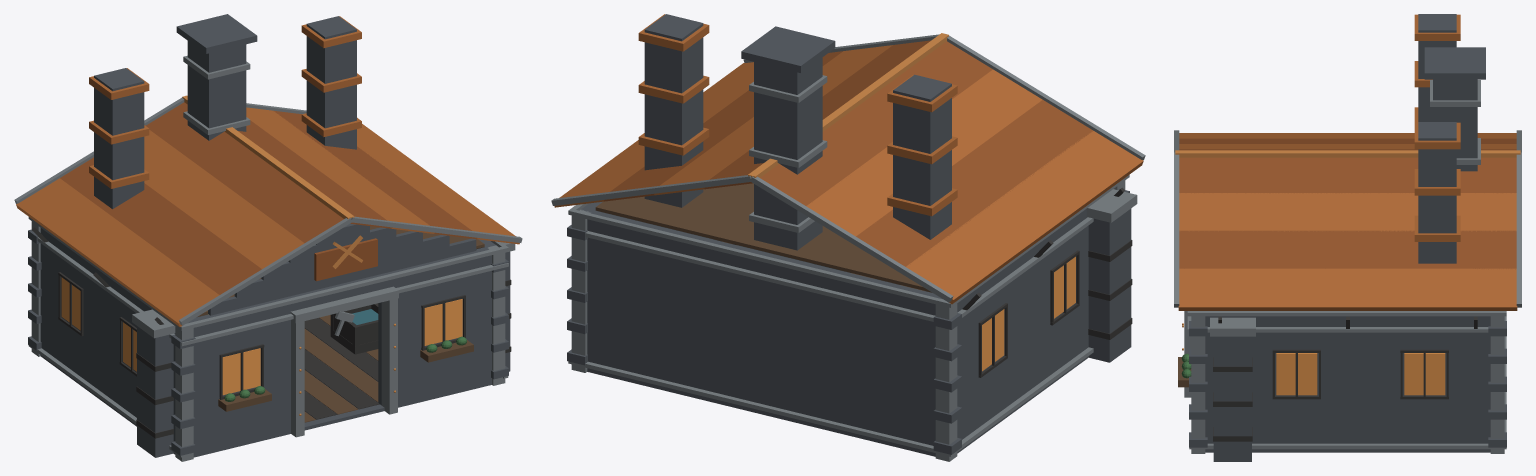
Rendered from Forge.glb.
The picture shows the model from 3 angles, left to right: view 1: azimuth 30°, elevation 25°; view 2: azimuth 150°, elevation 25°; view 3: azimuth 270°, elevation 25°; orthographic projection. The views are drawn at different scales.
Visible parts, largest first — view 1: Forge_165_ProfileRoof, Forge_003_FrontWing, Forge_040_FrontWing, Forge_002_Side, Forge_156_ProfileRoof, Forge_159_ProfileRoof, Forge_162_ProfileRoof, Forge_186_ExhaustStack, Forge_199_ExhaustStack, Forge_220_ForgeChimney, Forge_171_ProfileRoof, Forge_181_FoundryButtress (+39 smaller); view 2: Forge_001_Rear, Forge_002_Side, Forge_165_ProfileRoof, Forge_162_ProfileRoof, Forge_095_Ceiling, Forge_159_ProfileRoof, Forge_156_ProfileRoof, Forge_220_ForgeChimney, Forge_199_ExhaustStack, Forge_186_ExhaustStack, Forge_181_FoundryButtress, Forge_171_ProfileRoof (+24 smaller); view 3: Forge_039_Side, Forge_177_ProfileRoof, Forge_174_ProfileRoof, Forge_171_ProfileRoof, Forge_168_ProfileRoof, Forge_199_ExhaustStack, Forge_194_FoundryButtress, Forge_220_ForgeChimney, Forge_180_Ridge, Forge_224_ChimneyCap, Forge_088_SideCourse, Forge_080_SideCourse (+17 smaller).
Part boxes in pixels (left/top/right/bottom): Forge_165_ProfileRoof: left=16, top=178, right=219, bottom=326; Forge_003_FrontWing: left=186, top=295, right=299, bottom=457; Forge_040_FrontWing: left=378, top=244, right=495, bottom=407; Forge_002_Side: left=40, top=228, right=190, bottom=441; Forge_156_ProfileRoof: left=146, top=102, right=343, bottom=243; Forge_159_ProfileRoof: left=144, top=130, right=304, bottom=268; Forge_162_ProfileRoof: left=60, top=157, right=261, bottom=294; Forge_186_ExhaustStack: left=94, top=68, right=144, bottom=209; Forge_199_ExhaustStack: left=306, top=16, right=356, bottom=149; Forge_220_ForgeChimney: left=187, top=41, right=246, bottom=140; Forge_171_ProfileRoof: left=246, top=107, right=434, bottom=233; Forge_181_FoundryButtress: left=137, top=326, right=173, bottom=457; Forge_001_Rear: left=581, top=208, right=941, bottom=456; Forge_002_Side: left=940, top=188, right=1114, bottom=452; Forge_165_ProfileRoof: left=906, top=130, right=1143, bottom=304; Forge_162_ProfileRoof: left=856, top=100, right=1093, bottom=266; Forge_095_Ceiling: left=595, top=183, right=931, bottom=292; Forge_159_ProfileRoof: left=806, top=69, right=1042, bottom=236; Forge_156_ProfileRoof: left=760, top=41, right=992, bottom=205; Forge_220_ForgeChimney: left=754, top=57, right=822, bottom=250; Forge_199_ExhaustStack: left=644, top=14, right=703, bottom=207; Forge_186_ExhaustStack: left=893, top=74, right=951, bottom=239; Forge_181_FoundryButtress: left=1088, top=208, right=1131, bottom=362; Forge_171_ProfileRoof: left=654, top=45, right=892, bottom=195; Forge_039_Side: left=1205, top=316, right=1490, bottom=452; Forge_177_ProfileRoof: left=1178, top=268, right=1517, bottom=310; Forge_174_ProfileRoof: left=1179, top=230, right=1516, bottom=269; Forge_171_ProfileRoof: left=1179, top=193, right=1516, bottom=231; Forge_168_ProfileRoof: left=1179, top=157, right=1516, bottom=193; Forge_199_ExhaustStack: left=1418, top=122, right=1456, bottom=263; Forge_194_FoundryButtress: left=1213, top=336, right=1251, bottom=461; Forge_220_ForgeChimney: left=1433, top=79, right=1477, bottom=171; Forge_180_Ridge: left=1175, top=150, right=1520, bottom=157; Forge_224_ChimneyCap: left=1424, top=47, right=1485, bottom=79; Forge_088_SideCourse: left=1189, top=311, right=1505, bottom=316; Forge_080_SideCourse: left=1189, top=443, right=1506, bottom=449.
Size of the model in its own units: 34 by 27.28 by 27.2.
